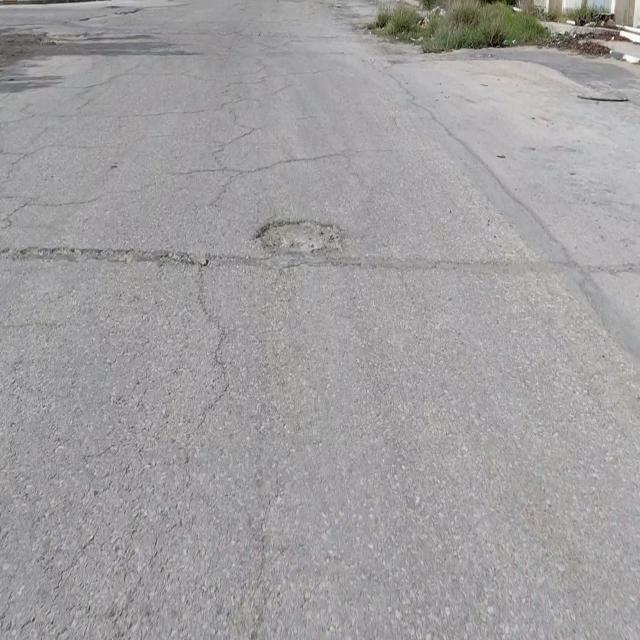Potholes: (252, 218, 343, 255)
